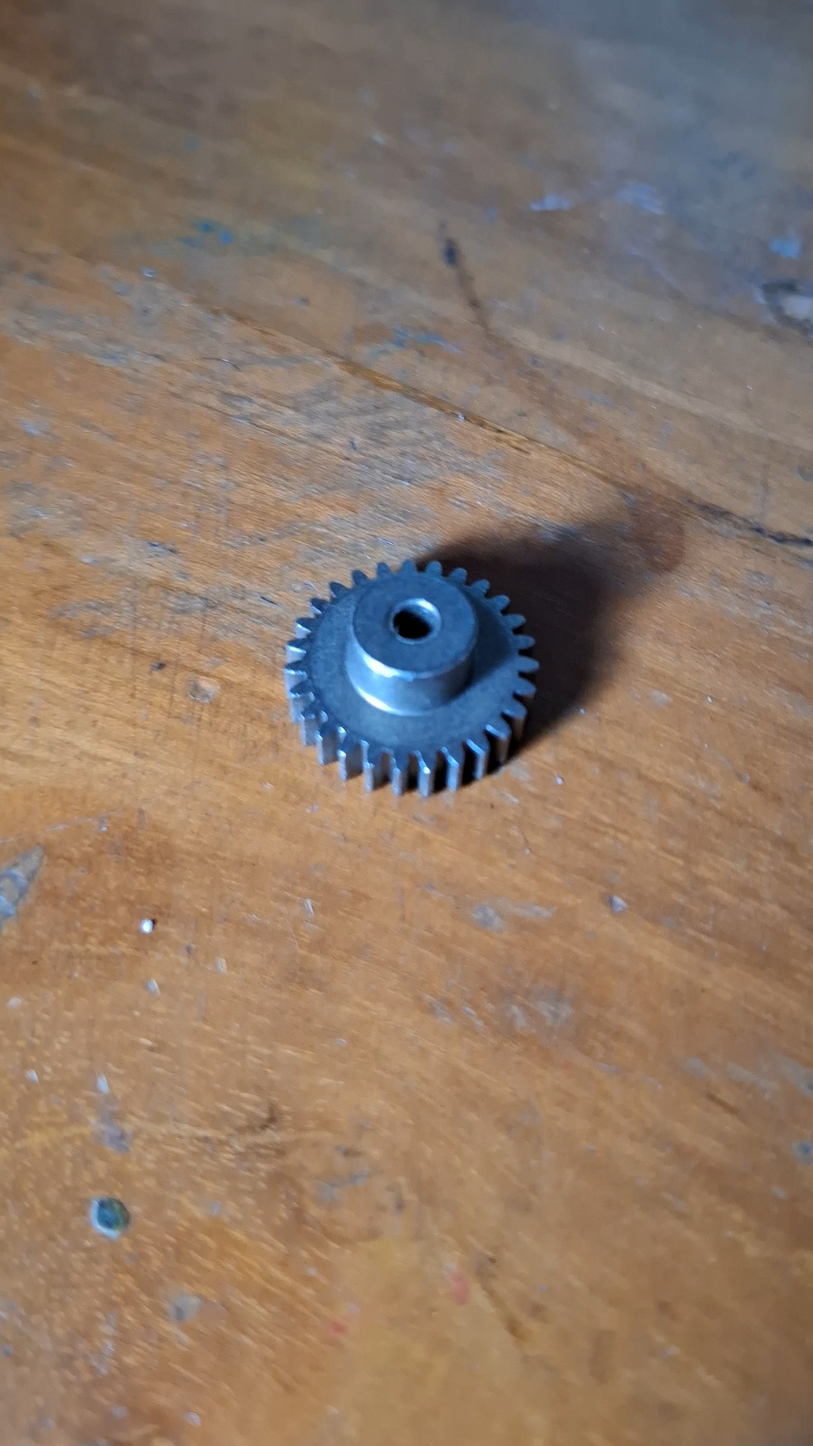spur gear: (285, 562, 537, 795)
